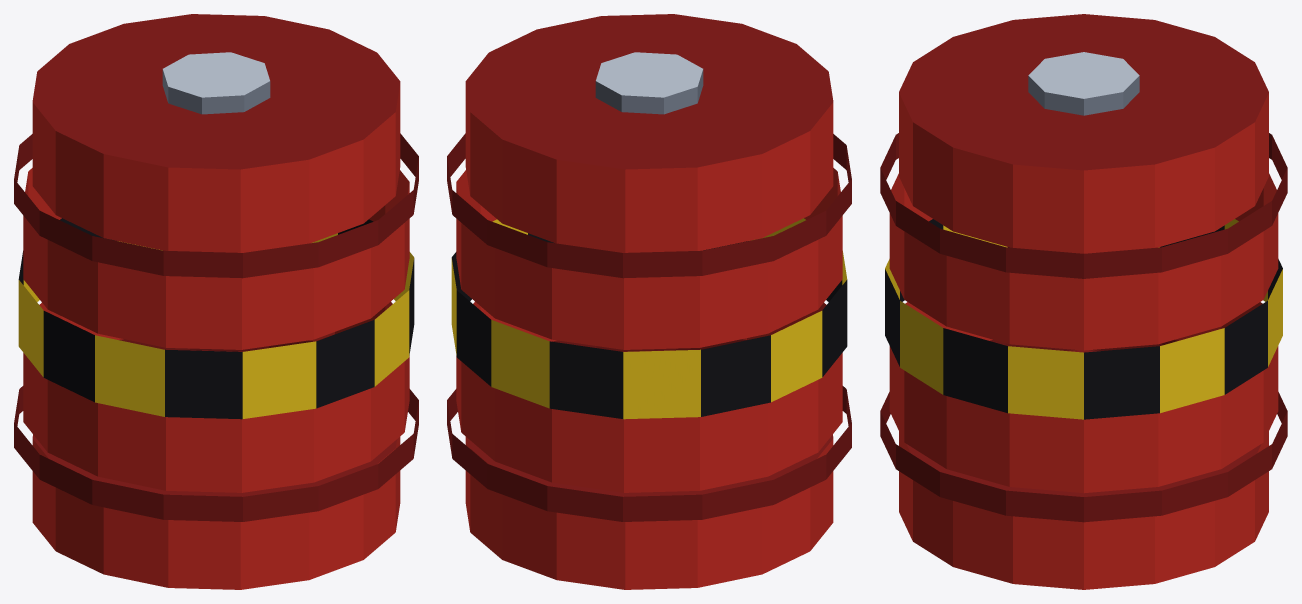
The model's file is gimmick_barrel.obj.
The picture shows the model from 3 angles, left to right: view 1: azimuth 30°, elevation 25°; view 2: azimuth 150°, elevation 25°; view 3: azimuth 270°, elevation 25°; orthographic projection.
Parts seen in each view (by area): view 1: gimmick_barrel; view 2: gimmick_barrel; view 3: gimmick_barrel.
Boxes of the visible parts, x1,y1,x2,y2 form: gimmick_barrel: [14, 14, 418, 589]; gimmick_barrel: [447, 14, 851, 589]; gimmick_barrel: [880, 14, 1287, 589].
Bounding box in the file's own units: 0.88 × 1.04 × 0.88.
